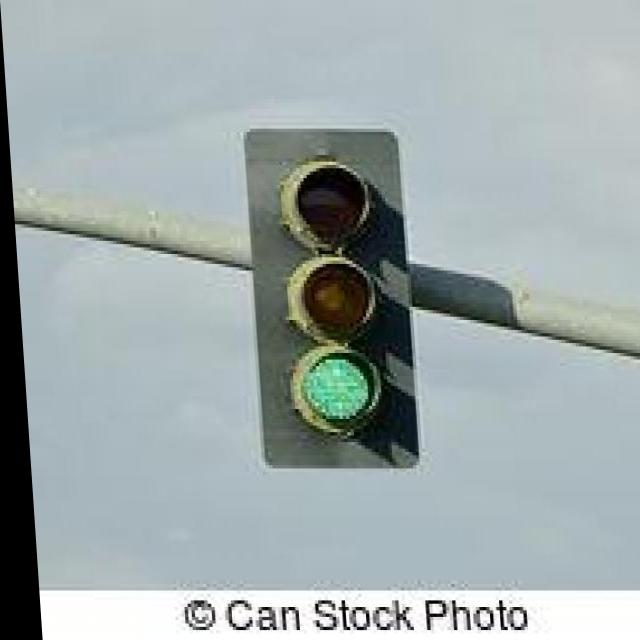green light: (276, 162, 385, 436)
